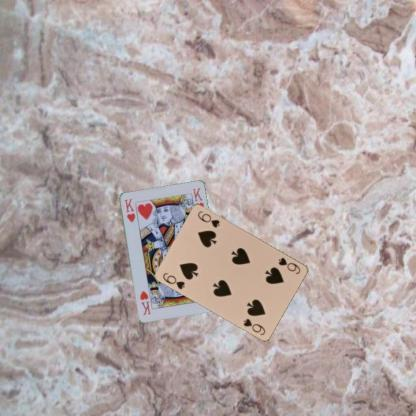6s: (276, 254, 302, 275), (160, 270, 186, 290)
Kh: (122, 196, 136, 223)
